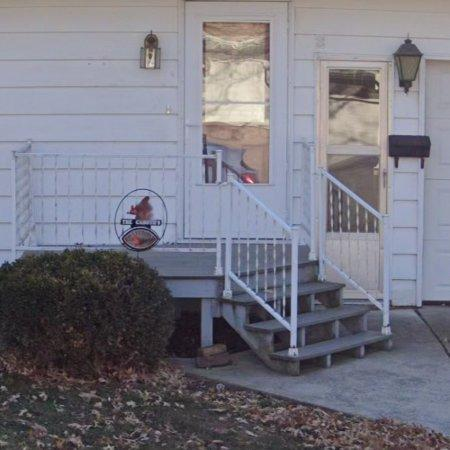stairs: (222, 184, 392, 374)
